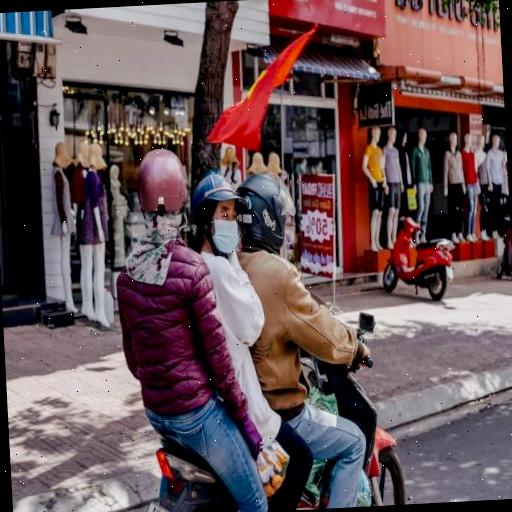helmet: (228, 154, 312, 282)
triple riding: (94, 124, 411, 512)
